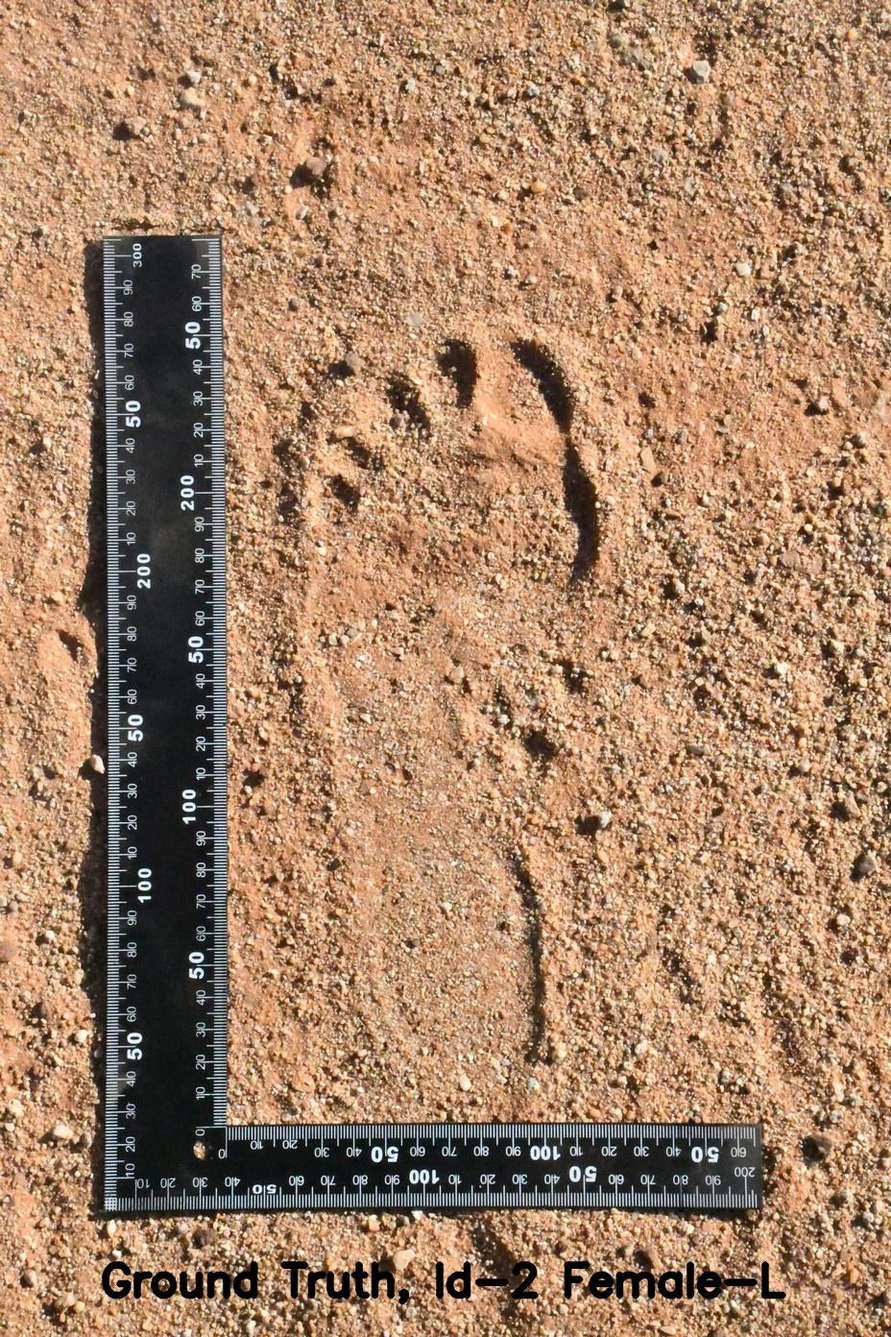human_foot_print: (250, 254, 638, 1111)
